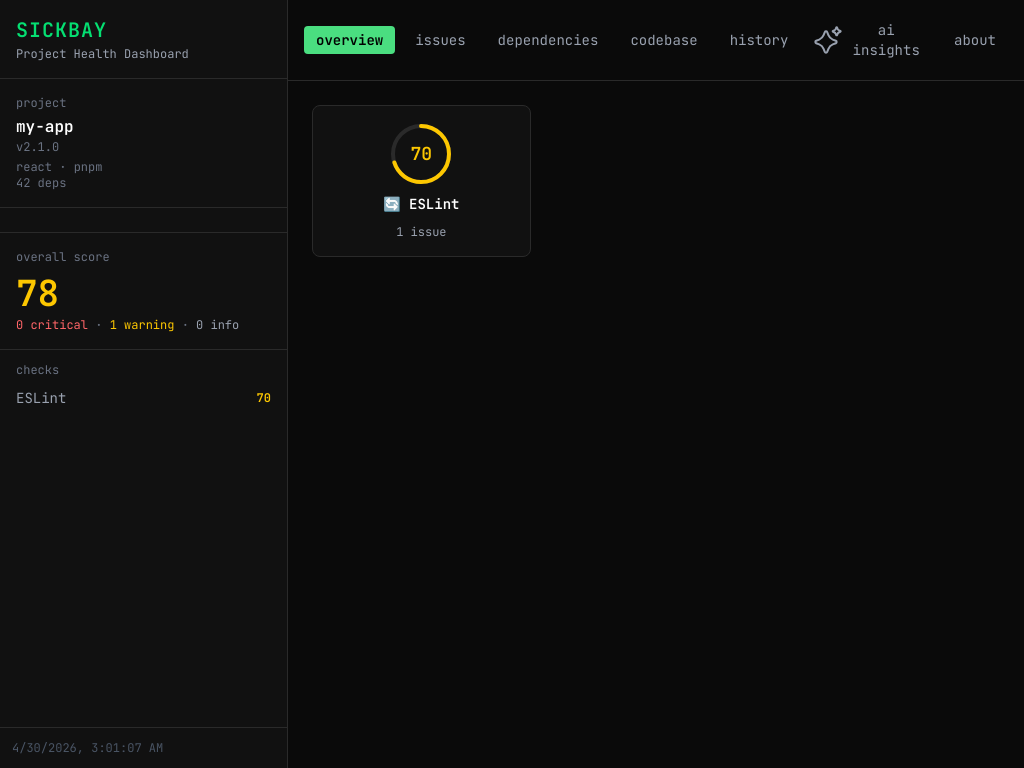
it: Dashboard › navigates to the issues view when the "issues" tab is clicked
This screenshot has width=1024, height=768.
Click the button "issues": x=440, y=40 [403, 26, 478, 54]
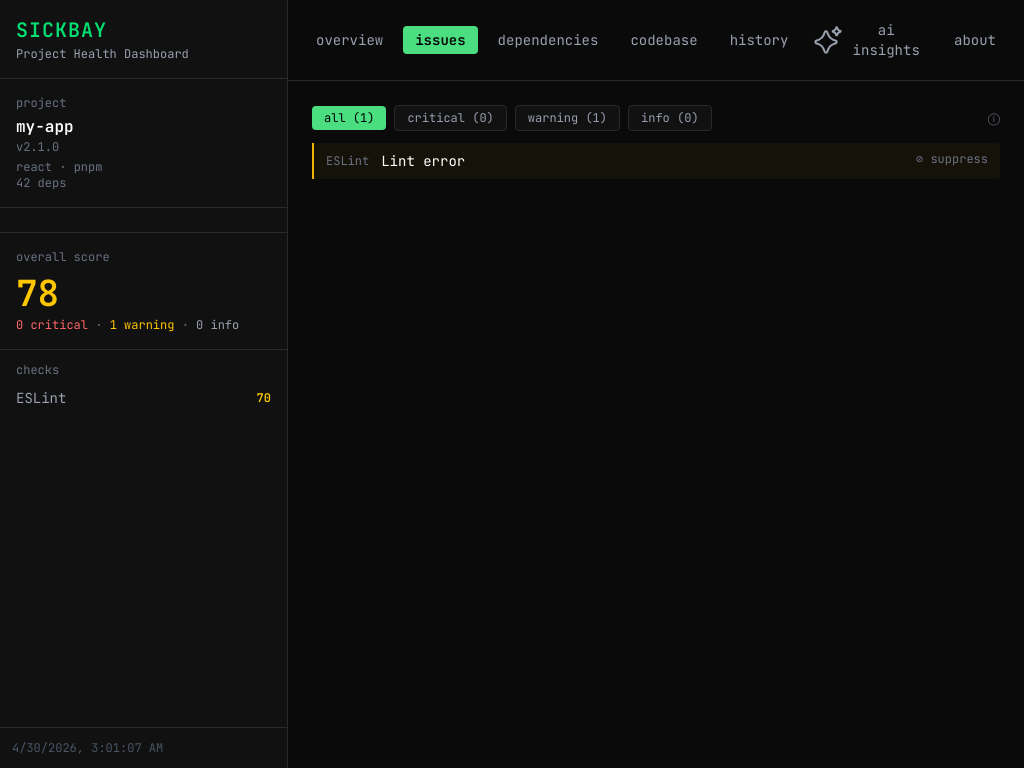
Now the text "Lint error" is shown, box [381, 152, 465, 170]
